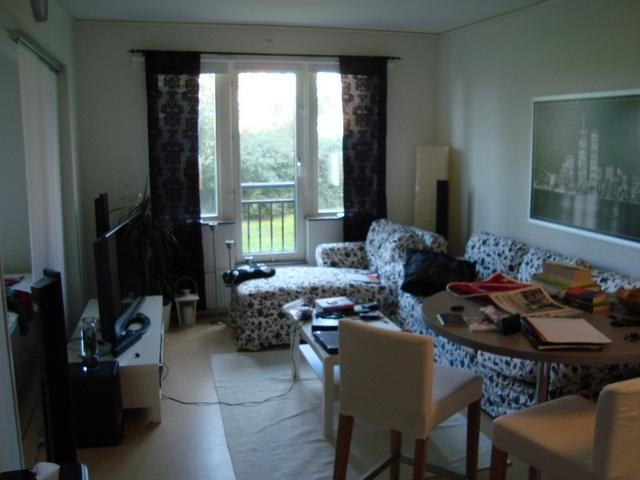AIO PC-Monitor-TV: (92, 209, 146, 345)
Kursi: (330, 317, 482, 479), (487, 376, 639, 479)
